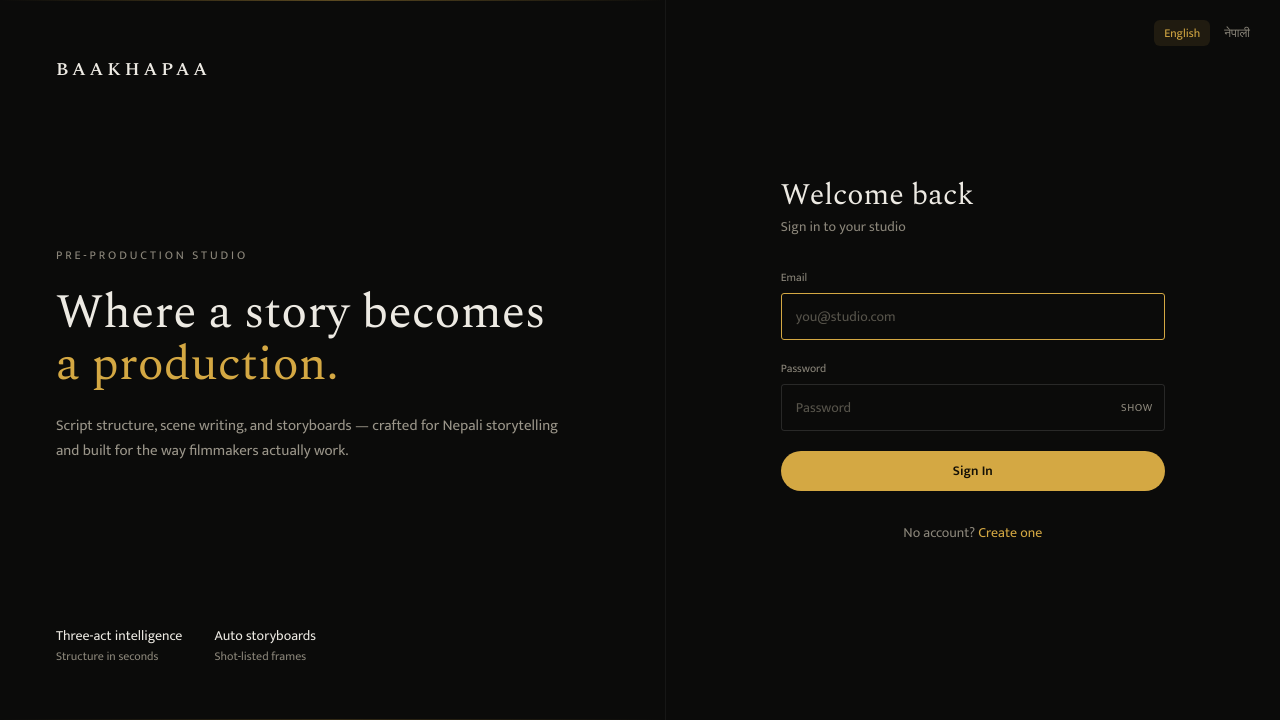
it: a rate-limited sign-in says to wait rather than blaming the password
The width and height of the screenshot is (1280, 720).
Type "a@b.co" into the field labelled "Email" at [973, 316], box [781, 293, 1165, 340]
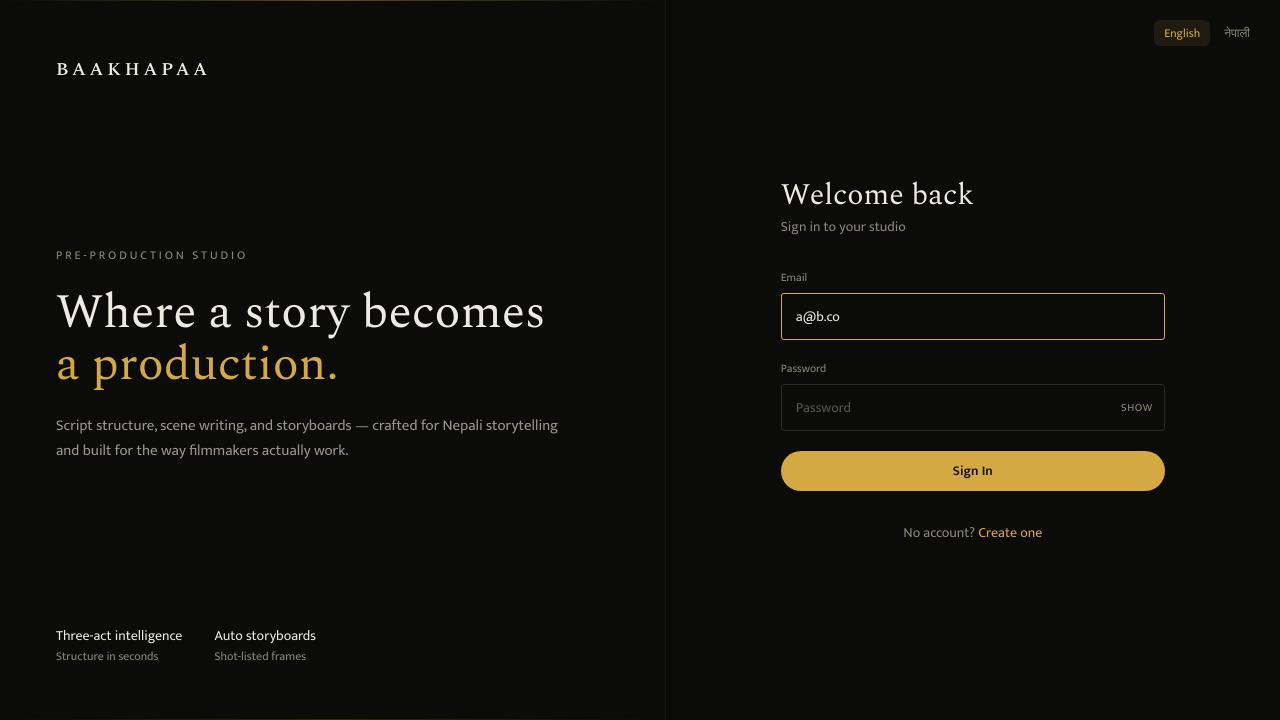
Type "x" into the password field labelled "Password" at [973, 408], box [781, 384, 1165, 431]
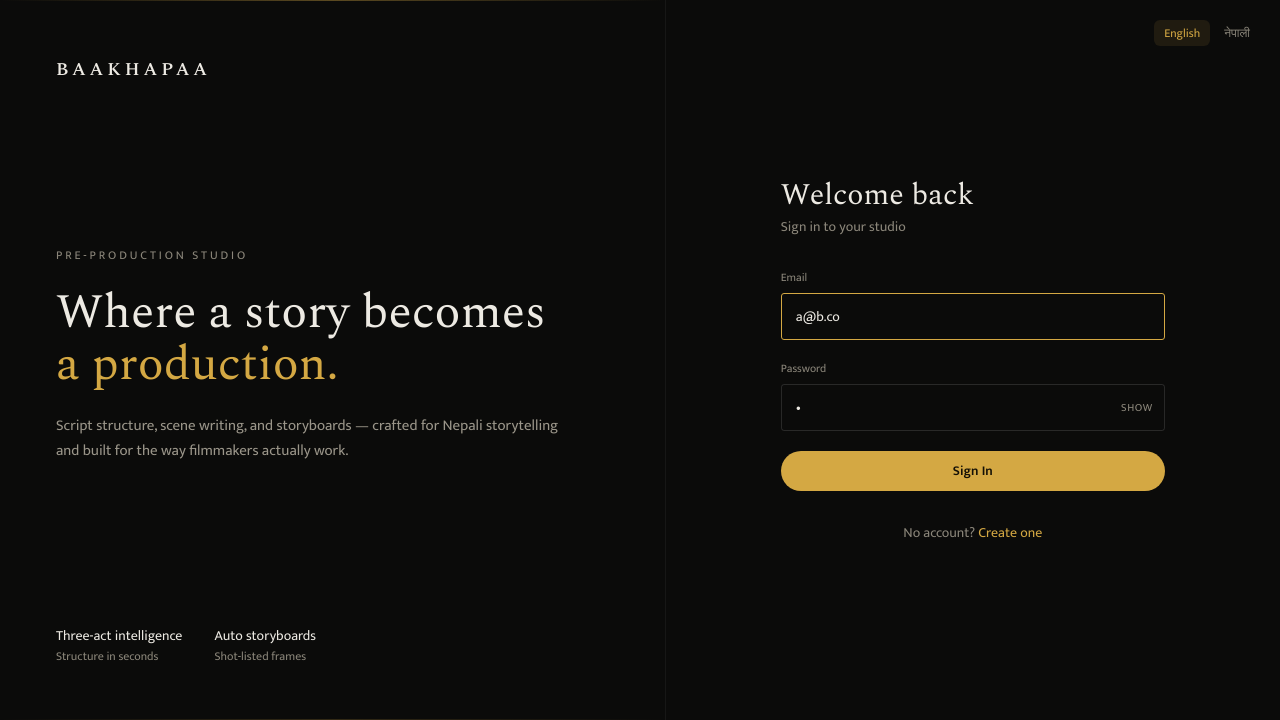
Click the button "Sign In" at [973, 471], box [781, 451, 1165, 491]
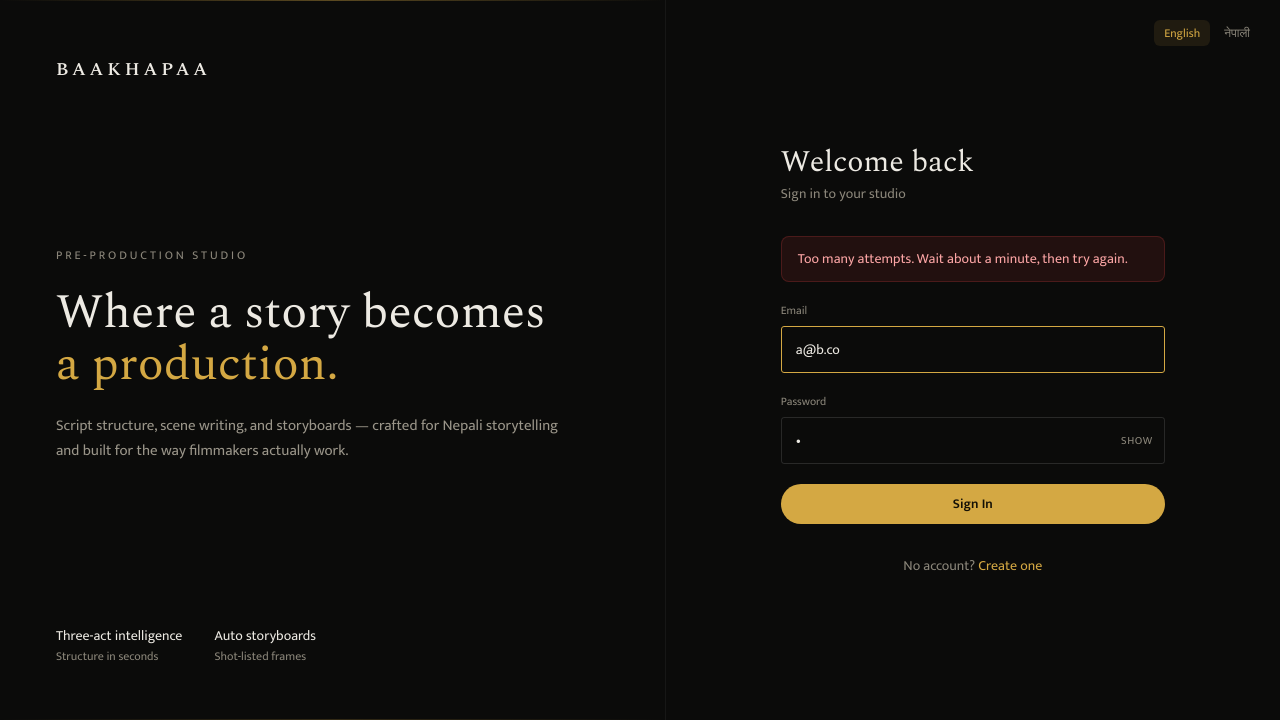
Expected: the message shows "Too many attempts", [798, 247, 1128, 270]
